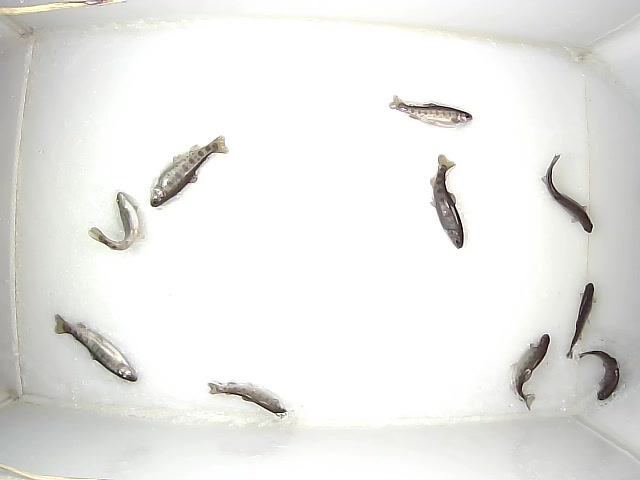fish: (54, 313, 138, 382), (150, 135, 229, 208), (541, 153, 593, 233), (208, 382, 297, 426), (430, 154, 464, 249), (510, 333, 550, 412), (88, 192, 139, 251), (389, 95, 473, 128), (565, 282, 597, 360), (579, 350, 620, 401)
